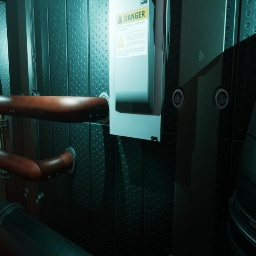SafetySwitchPanel ,: (109, 0, 171, 142)
